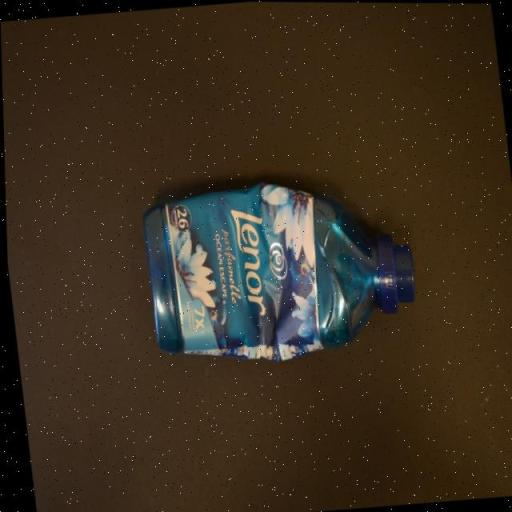plastic: (134, 160, 421, 374)
